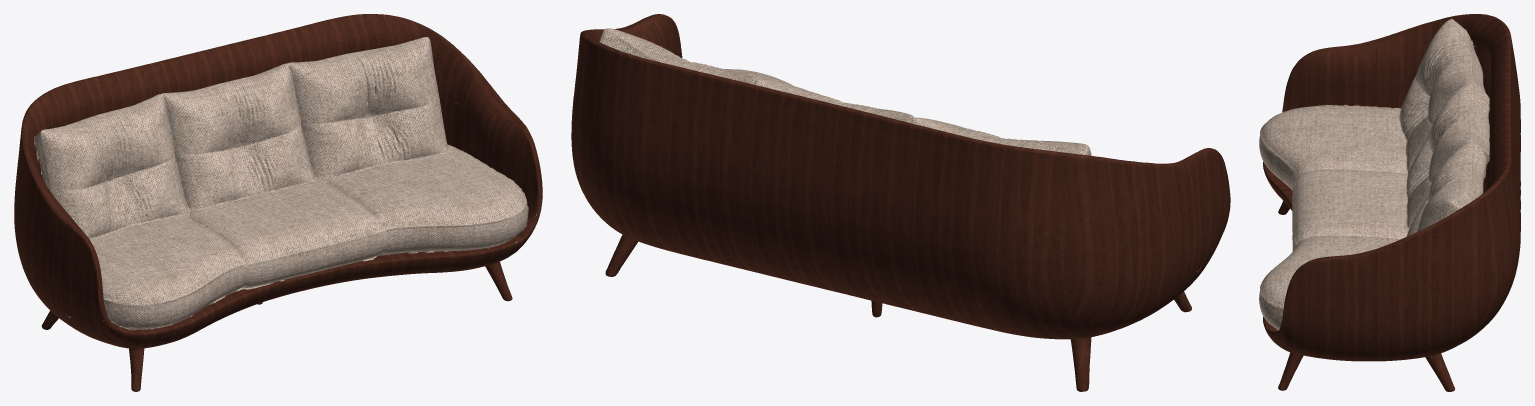
Rendered from WoodFabric3Seater.glb.
3 views of the same model, side by side, from view 1: azimuth 30°, elevation 25°; view 2: azimuth 150°, elevation 25°; view 3: azimuth 270°, elevation 25° (orthographic). The views are drawn at different scales.
Parts seen in each view (by area): view 1: world.002; view 2: world.002; view 3: world.002.
Boxes of the visible parts, x1=… form: world.002: x1=14, y1=14, x2=542, y2=391; world.002: x1=571, y1=14, x2=1230, y2=391; world.002: x1=1259, y1=14, x2=1520, y2=391.
Size of the model in its own units: 1 by 0.4438 by 0.5091.
Materials: 2 (2 with a texture image).
